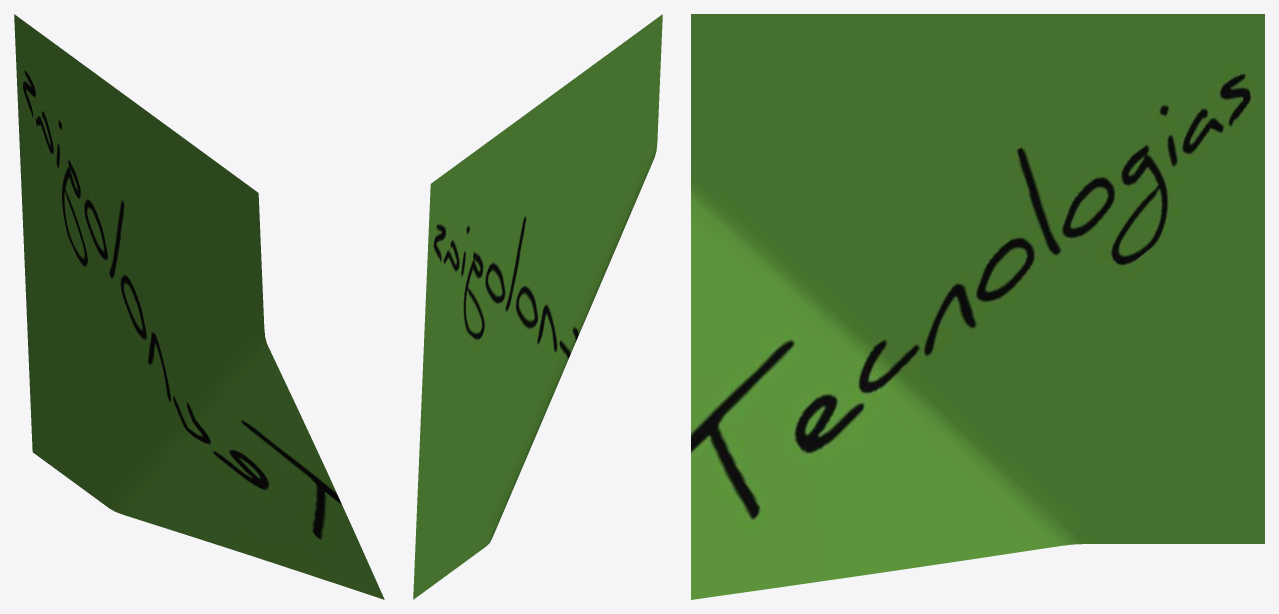
Rendered from pstit_esq-1df0345f.glb.
The picture shows the model from 3 angles, left to right: view 1: azimuth 30°, elevation 25°; view 2: azimuth 150°, elevation 25°; view 3: azimuth 270°, elevation 25°; orthographic projection. The views are drawn at different scales.
Parts seen in each view (by area): view 1: diannao; view 2: diannao; view 3: diannao.
Boxes of the visible parts, x1,y1,x2,y2 form: diannao: (14,14,384,599); diannao: (413,14,662,599); diannao: (691,14,1264,599).
Bounding box in the file's own units: 0.0657 × 0.2204 × 0.2206.
1 material, 1 textured.
